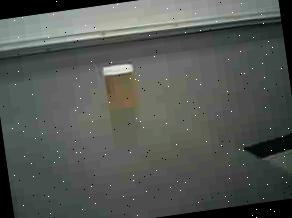Bottle B: (94, 57, 146, 117)
